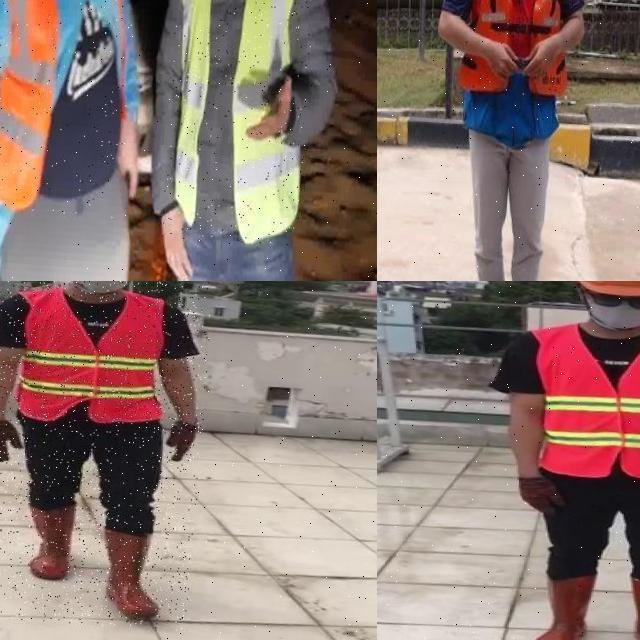boots: (95, 524, 171, 622), (531, 573, 598, 640), (21, 504, 72, 582)
vest: (158, 0, 319, 247), (0, 0, 141, 222), (12, 284, 168, 424), (528, 319, 640, 482), (455, 0, 576, 137)
